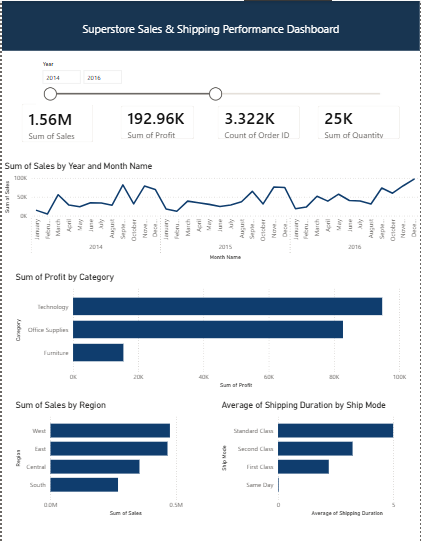

The dashboard page shown, as its layout file describes it:
{"tool":"powerbi","page":{"name":"Page 1","canvas":[816,1056],"ordinal":0},"visuals":[{"type":"cardVisual","fields":{"Data":["Sum(Fact_Sales.Sales)"]},"box":[21.4,183.1,173.4,109.1],"z":0},{"type":"cardVisual","fields":{"Data":["Sum(Fact_Sales.Profit)"]},"box":[214.3,187,177.3,99.4],"z":1000},{"type":"cardVisual","fields":{"Data":["Count(Fact_Sales.Order ID)"]},"box":[403.3,187,194.8,99.4],"z":2000},{"type":"cardVisual","fields":{"Data":["Sum(Fact_Sales.Quantity)"]},"box":[598.1,187,194.8,99.4],"z":3000},{"type":"lineChart","fields":{"Category":["Dim_Date.Year","Dim_Date.Month Name"],"Y":["Sum(Fact_Sales.Sales)"]},"box":[0,311.7,816.4,198.7],"z":4000},{"type":"clusteredBarChart","fields":{"Category":["Dim_Product.Category"],"Y":["Sum(Fact_Sales.Profit)"]},"box":[21.4,528,771.5,231.9],"z":5000},{"type":"clusteredBarChart","fields":{"Category":["Dim_Location.Region"],"Y":["Sum(Fact_Sales.Sales)"]},"box":[21.4,777.4,385.8,231.9],"z":6000},{"type":"clusteredBarChart","fields":{"Category":["Dim_Shipping.Ship Mode"],"Y":["Avg(Fact_Sales.Shipping Duration)"]},"box":[422.8,777.4,393.6,231.9],"z":7000},{"type":"textbox","box":[0,0,814.4,97.4],"z":8000},{"type":"slicer","fields":{"Values":["Dim_Date.Year"]},"box":[76,111.1,693.6,89.6],"z":8001}]}

Visuals, with their boxes in screenshot pixels (x1, y1, x2, y2), scaled from the page's 816x1056 canvas onto the 421x541 screenshot:
cardVisual - Sum(Fact_Sales.Sales): bbox=[11, 94, 101, 150]
cardVisual - Sum(Fact_Sales.Profit): bbox=[111, 96, 202, 147]
cardVisual - Count(Fact_Sales.Order ID): bbox=[208, 96, 309, 147]
cardVisual - Sum(Fact_Sales.Quantity): bbox=[309, 96, 409, 147]
lineChart - Dim_Date.Year x Dim_Date.Month Name: bbox=[0, 160, 420, 261]
clusteredBarChart - Dim_Product.Category x Sum(Fact_Sales.Profit): bbox=[11, 270, 409, 389]
clusteredBarChart - Dim_Location.Region x Sum(Fact_Sales.Sales): bbox=[11, 398, 210, 517]
clusteredBarChart - Dim_Shipping.Ship Mode x Avg(Fact_Sales.Shipping Duration): bbox=[218, 398, 420, 517]
textbox: bbox=[0, 0, 420, 50]
slicer - Dim_Date.Year: bbox=[39, 57, 397, 103]
